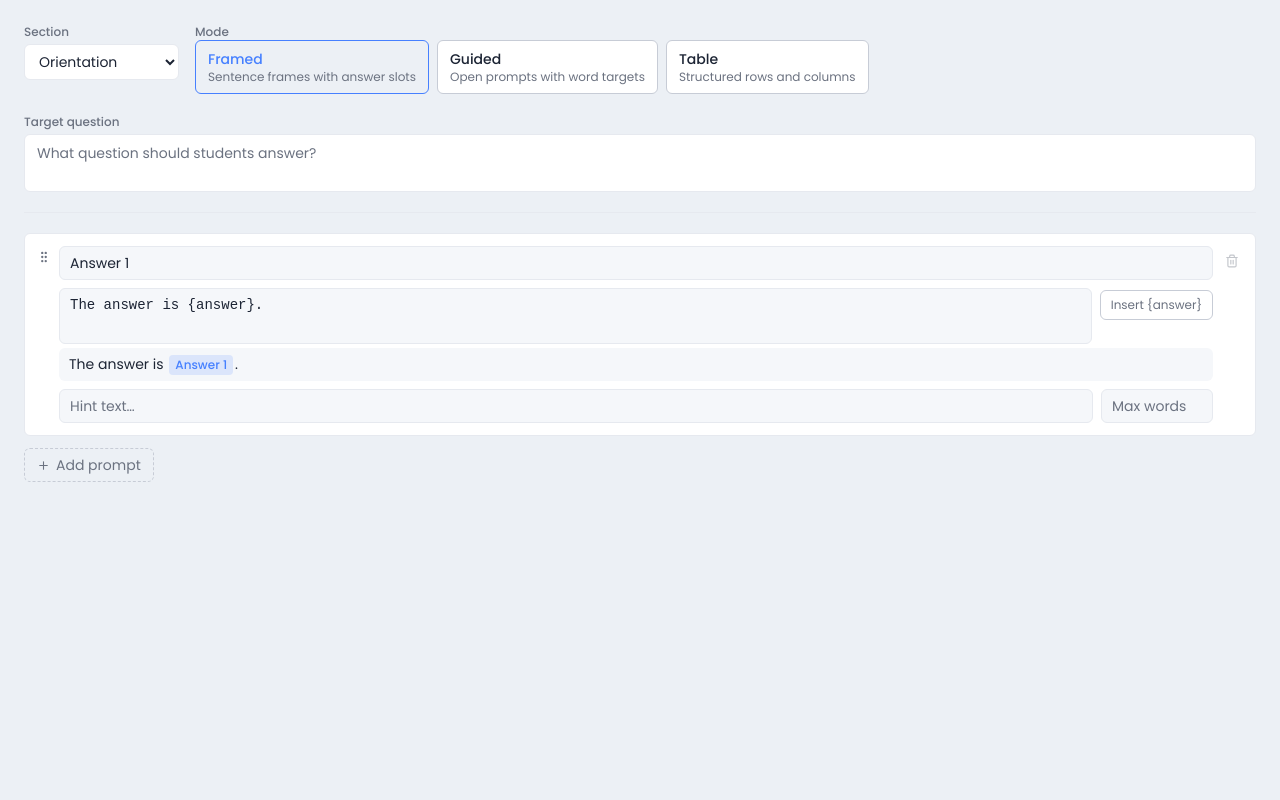
Scenario: ScaffoldSlideEditor — mode switching › cancelling mode switch does NOT update config
This screenshot has width=1280, height=800.
What coordinates should you click on to do the following:
click the radio button labelled "Guided Open prompts with word targets"
I would click on:
 (548, 67)
Its box is [437, 40, 658, 94].
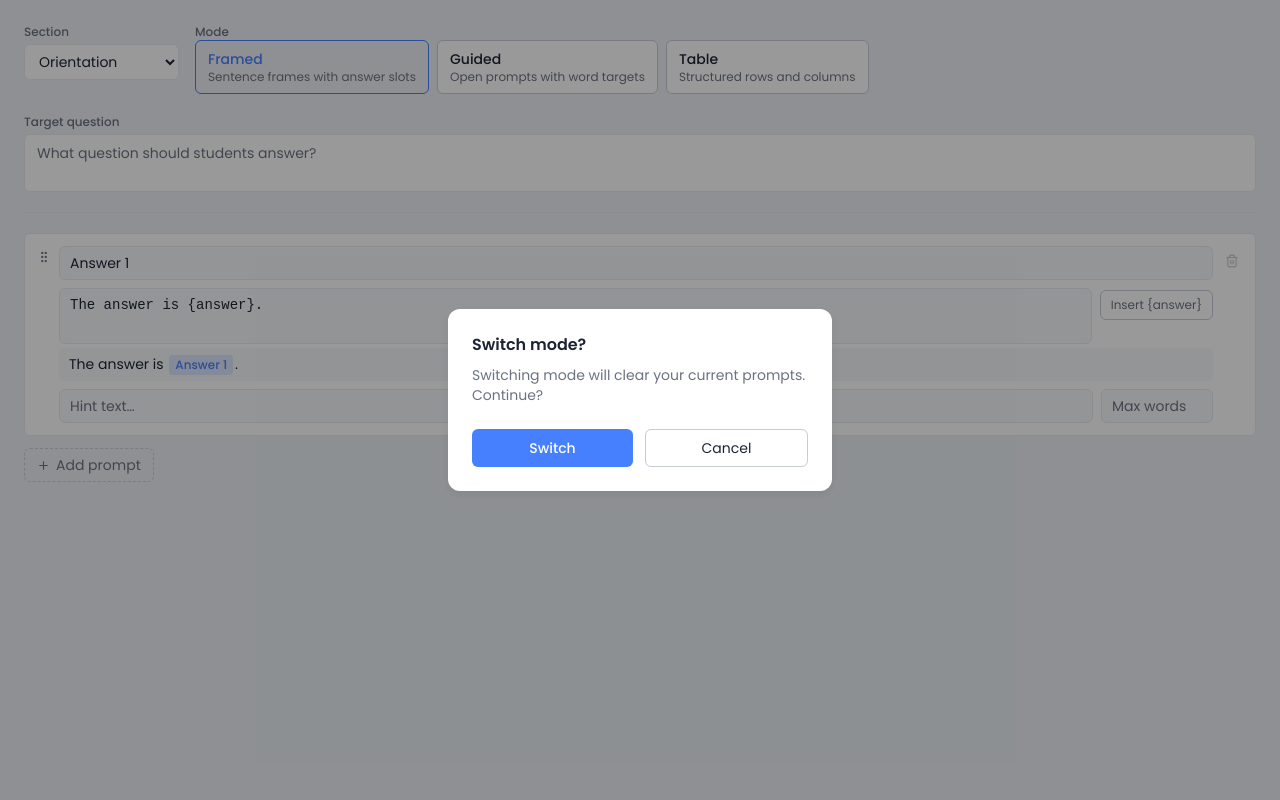
What coordinates should you click on to do the following:
click the button with test id "cancel-mode-switch"
I would click on:
 (726, 448)
Its box is [645, 429, 808, 467].
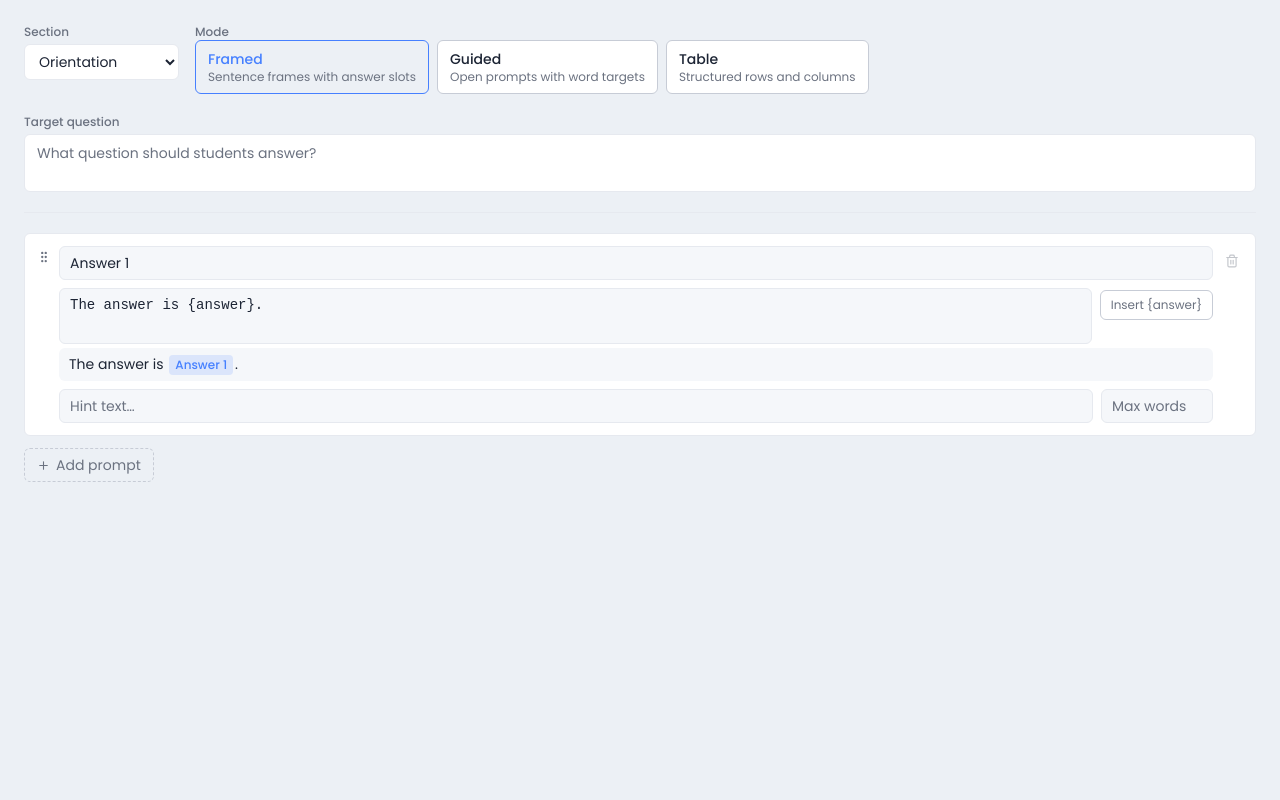
Result: the dialog with test id "mode-switch-dialog" is gone
